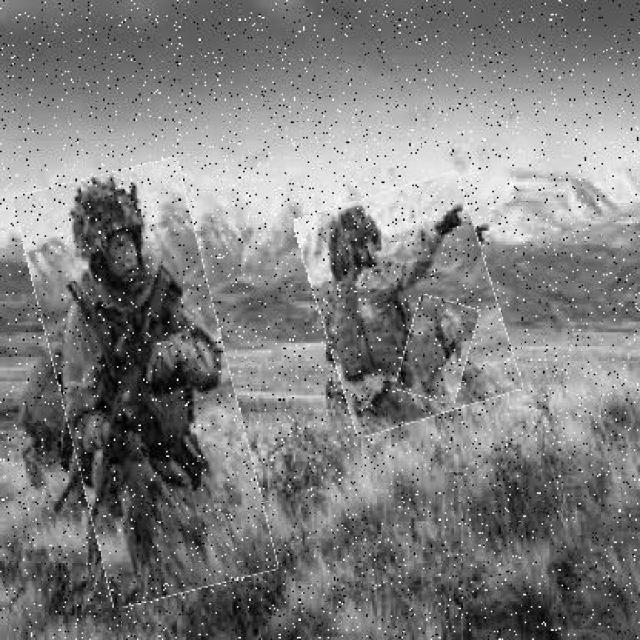Person: (36, 166, 255, 603), (309, 181, 509, 430), (401, 300, 475, 404)
